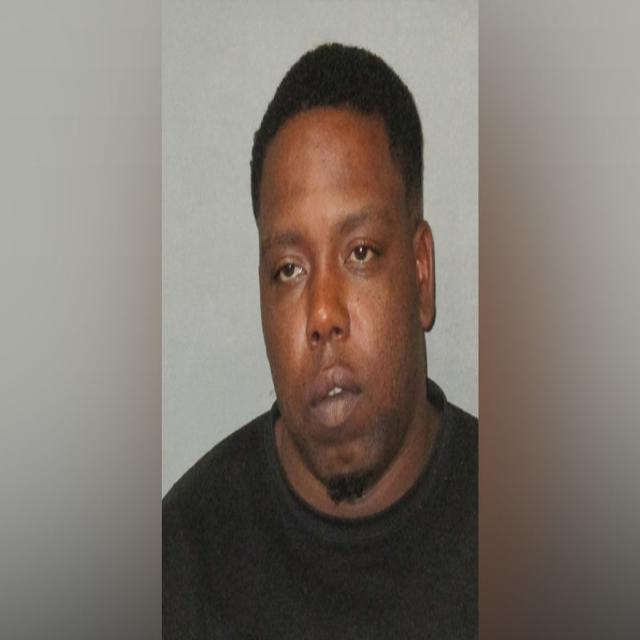mobile_phonerotation: (161, 39, 480, 636)
